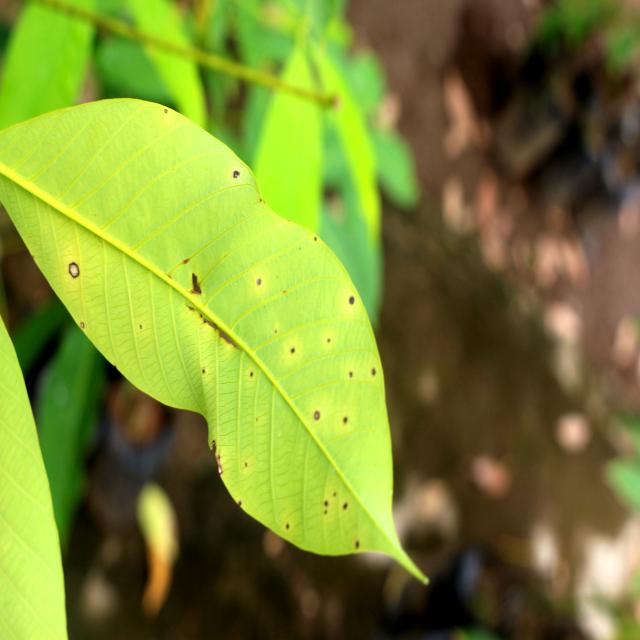Colletotrichum: (68, 262, 80, 278), (233, 170, 240, 178), (314, 411, 320, 420), (350, 296, 354, 304), (80, 322, 84, 329)
